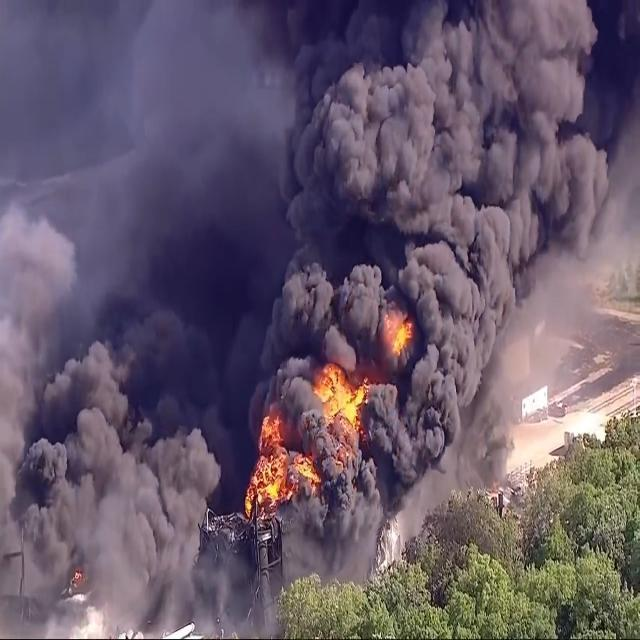Fire: (241, 356, 375, 512), (376, 308, 418, 356)
Smoke: (238, 0, 610, 542), (0, 208, 235, 640)
